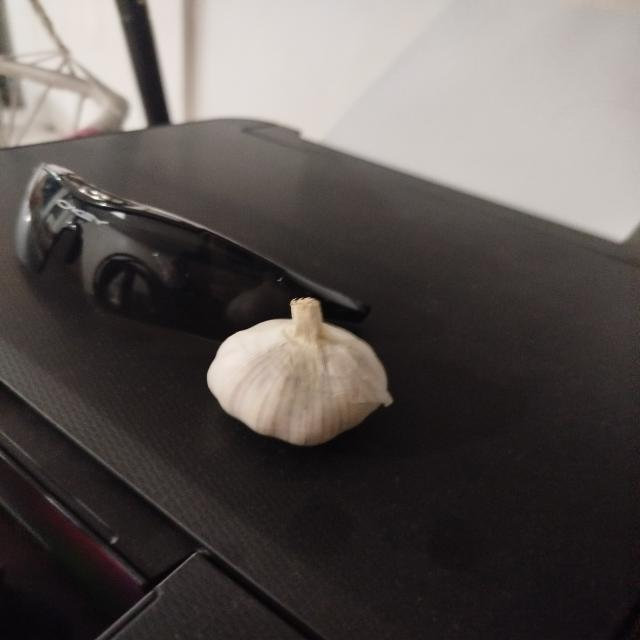garlic: (205, 296, 394, 447)
